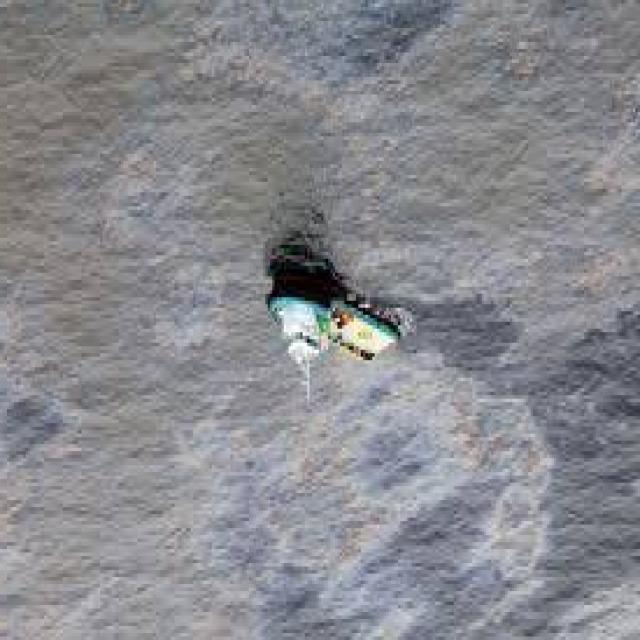sheen: (323, 2, 640, 360), (212, 362, 547, 597)
